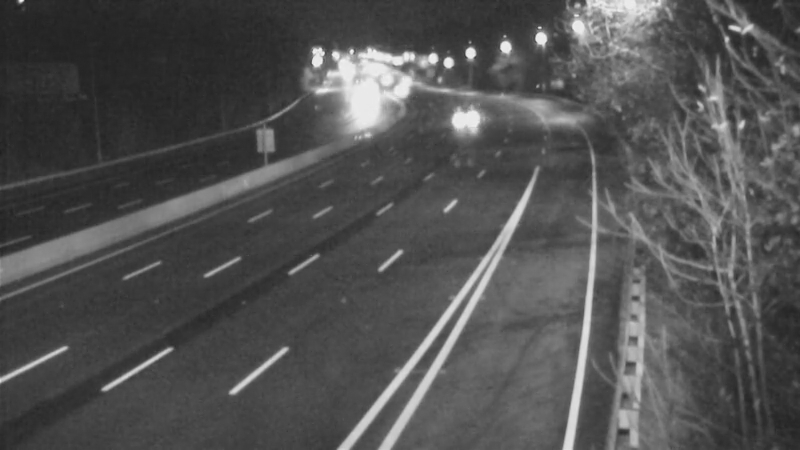vehicle: (377, 67, 427, 117), (436, 98, 486, 148), (336, 73, 386, 123)
